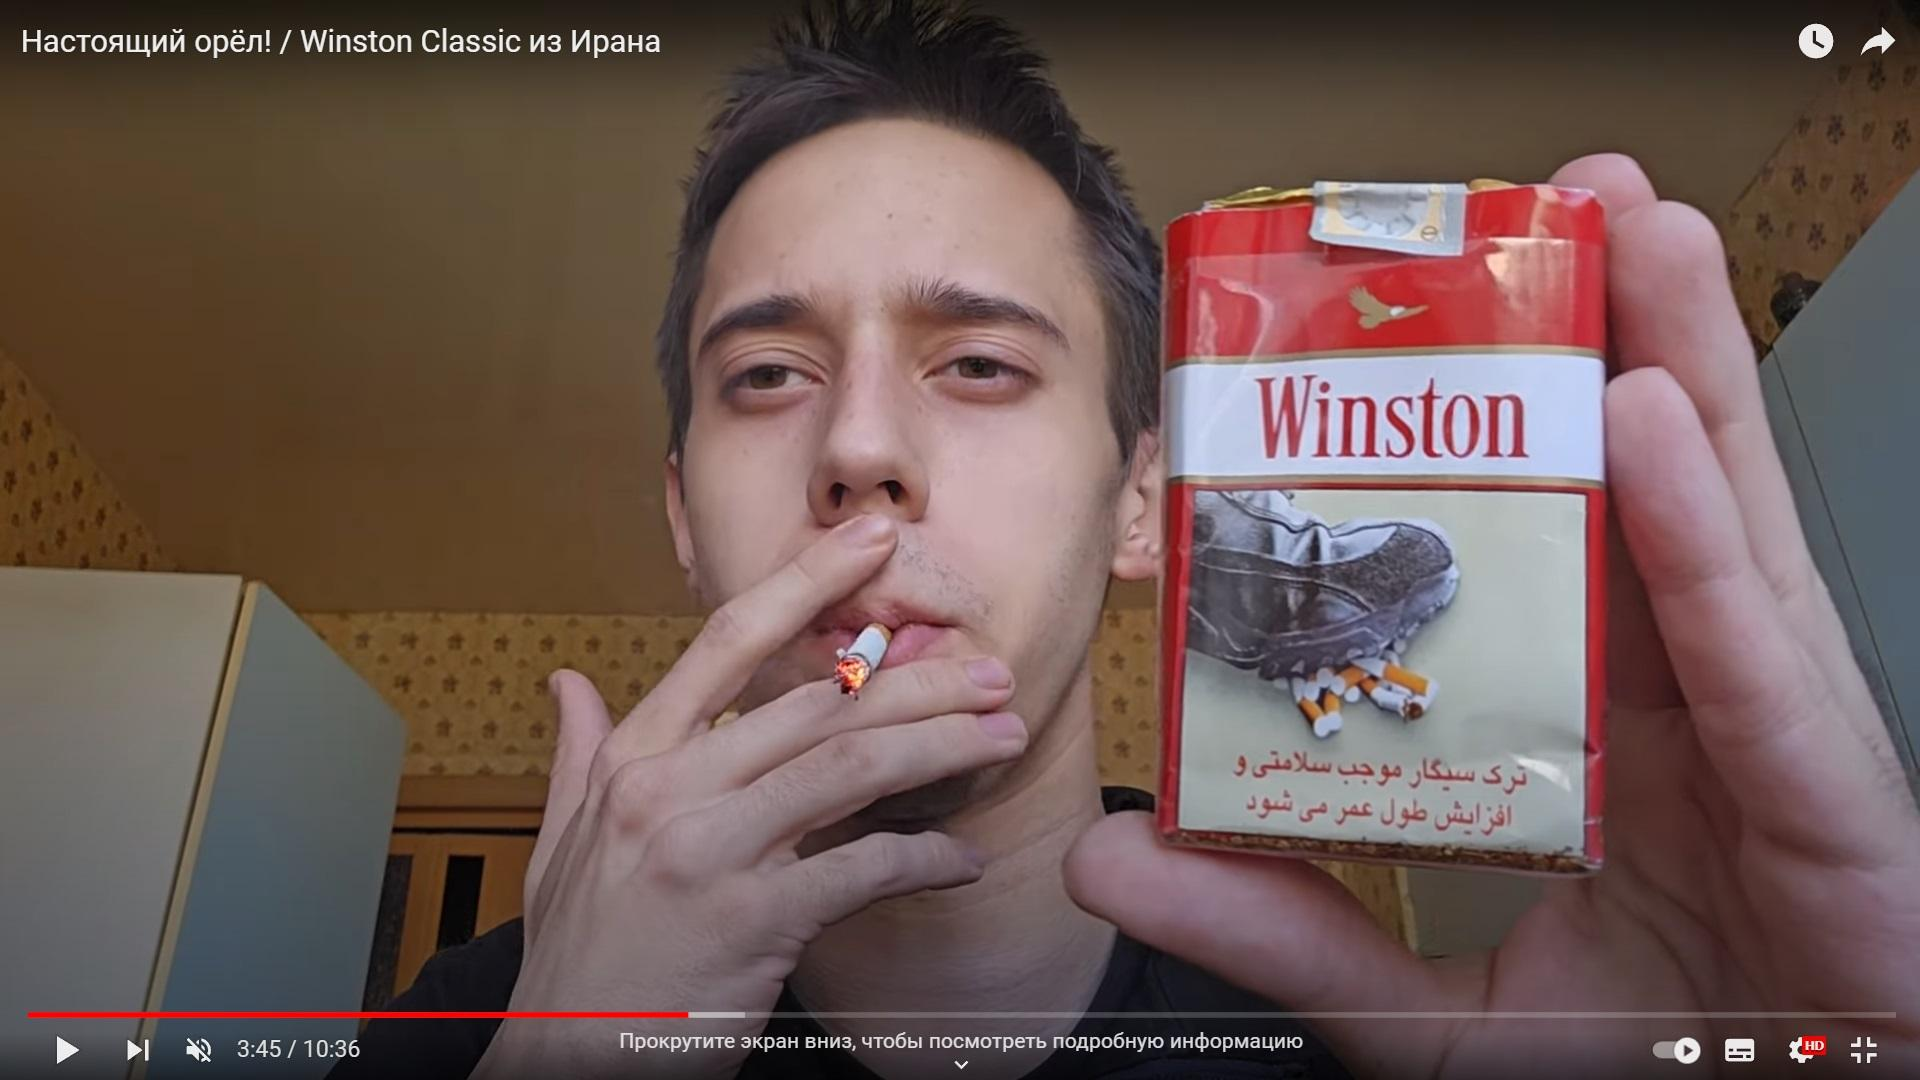cigarette: (836, 622, 893, 698)
